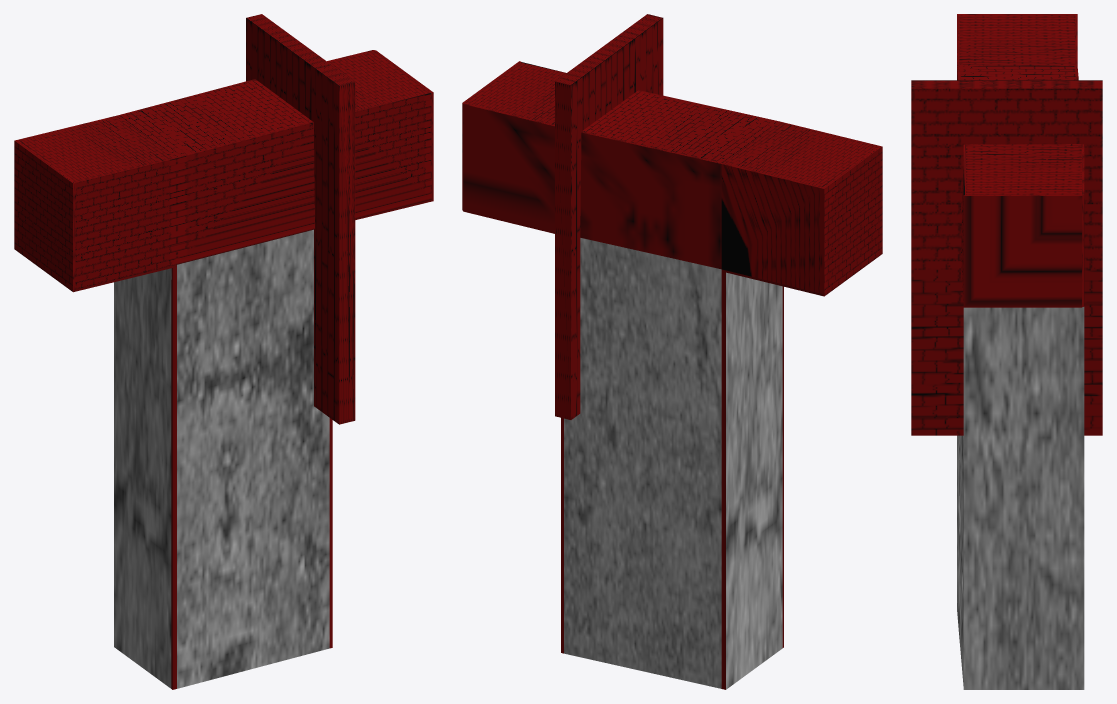
File: basic.glb
3 views of the same model, side by side, from view 1: azimuth 30°, elevation 25°; view 2: azimuth 150°, elevation 25°; view 3: azimuth 270°, elevation 25° (orthographic). The views are drawn at different scales.
Visible parts, largest first — view 1: Boundaries-col, Wall-col; view 2: Boundaries-col, Wall-col; view 3: Boundaries-col, Wall-col.
Part boxes in pixels (x1=…): Boundaries-col: x1=14, y1=50, x2=433, y2=689; Wall-col: x1=246, y1=14, x2=355, y2=424; Boundaries-col: x1=462, y1=61, x2=882, y2=689; Wall-col: x1=555, y1=14, x2=663, y2=419; Boundaries-col: x1=957, y1=14, x2=1084, y2=689; Wall-col: x1=911, y1=80, x2=1102, y2=435.
Size of the model in its own units: 44.99 by 69.14 by 20.
Materials: 2 (2 with a texture image).
